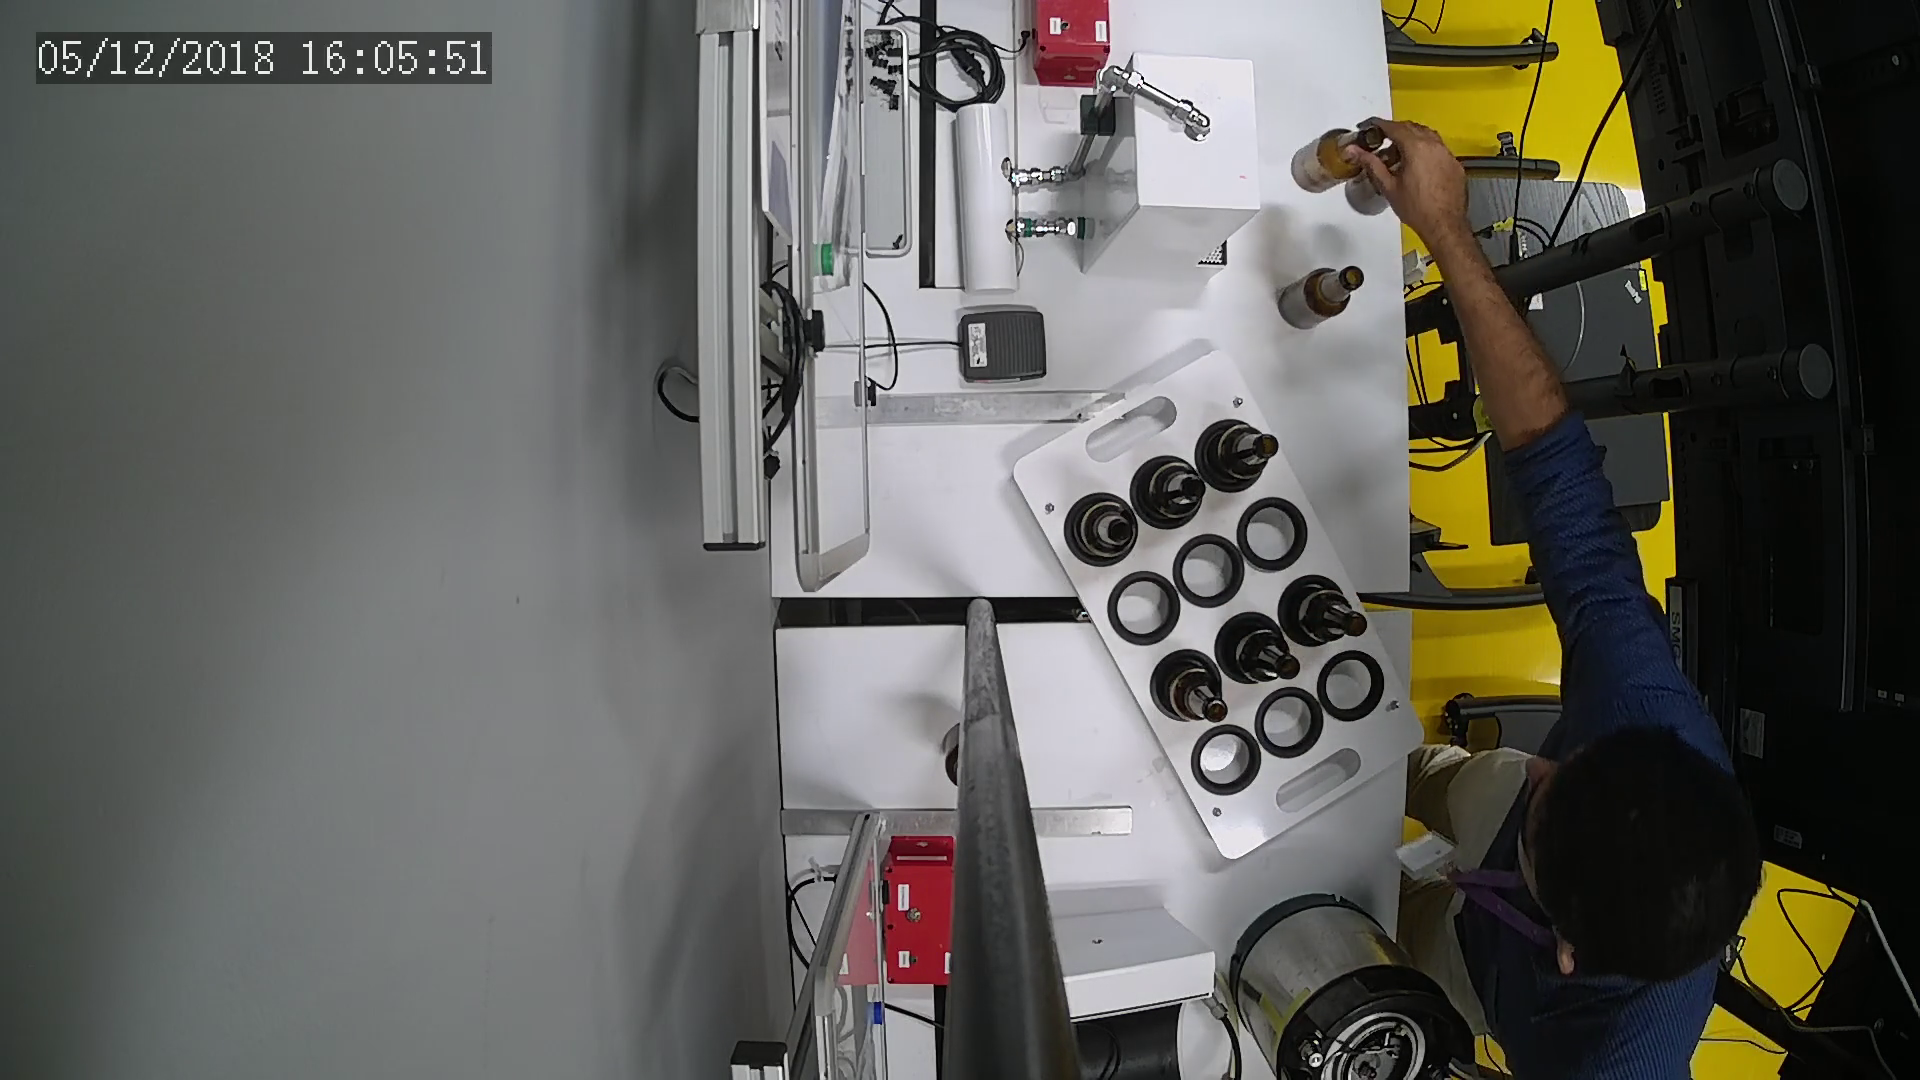filled_bottle: (1151, 649, 1232, 731), (1218, 615, 1304, 691), (1279, 578, 1370, 647), (1199, 418, 1283, 488), (1133, 455, 1208, 527), (1068, 495, 1145, 566)
trolley: (1010, 349, 1433, 868)
unfilled_bottle: (1273, 265, 1370, 330)
